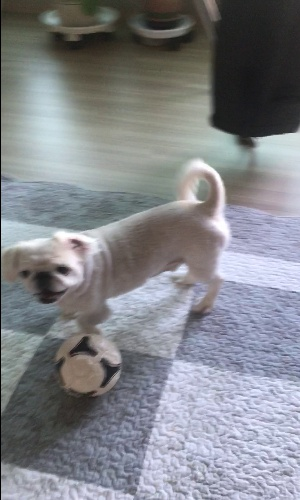ddubi: (1, 153, 236, 335)
